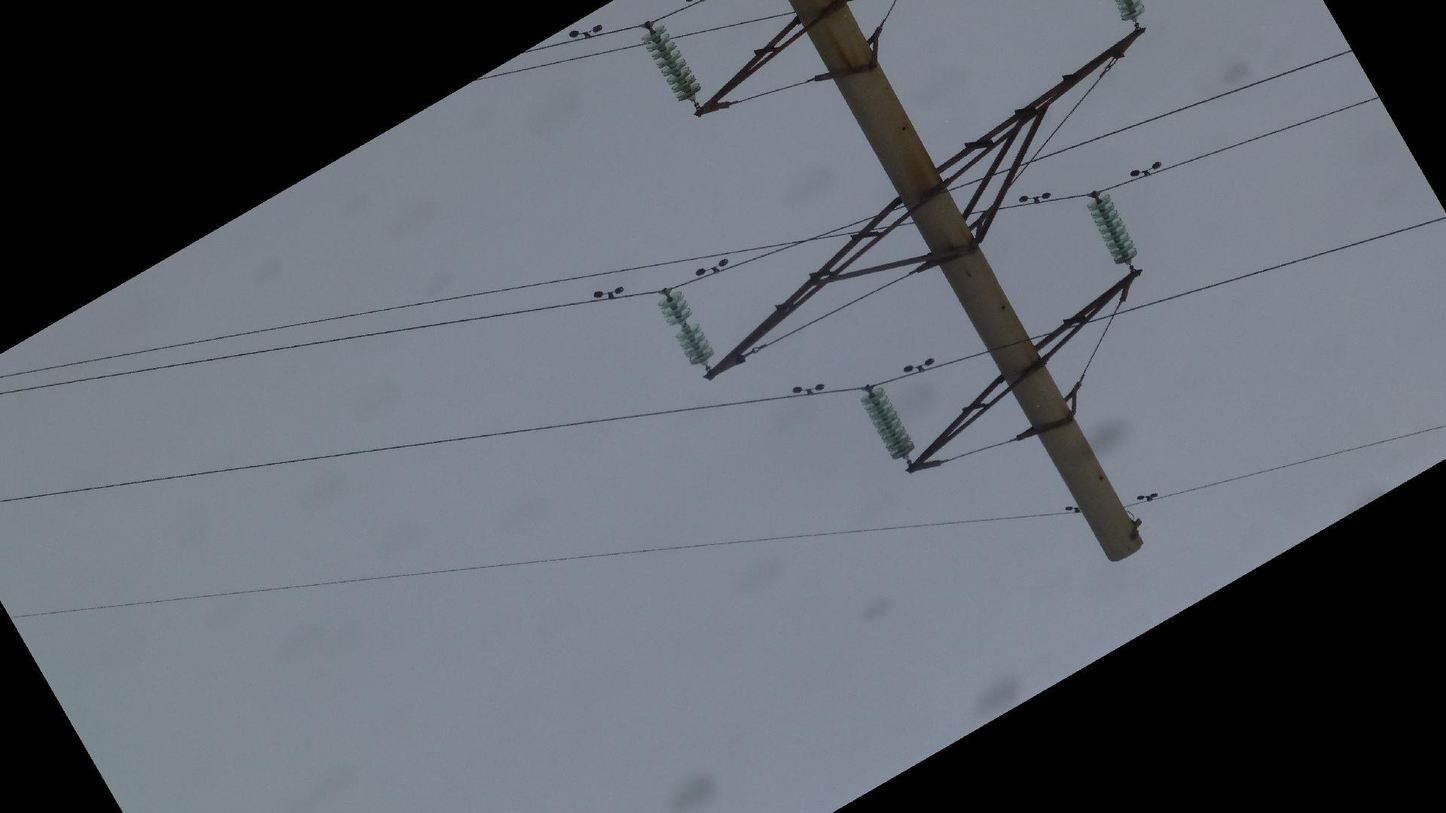insulator: (636, 23, 704, 105), (656, 288, 717, 368), (859, 385, 917, 464), (1084, 192, 1141, 267), (1113, 1, 1149, 25)
insulator_stringdrop: (665, 306, 704, 343)
